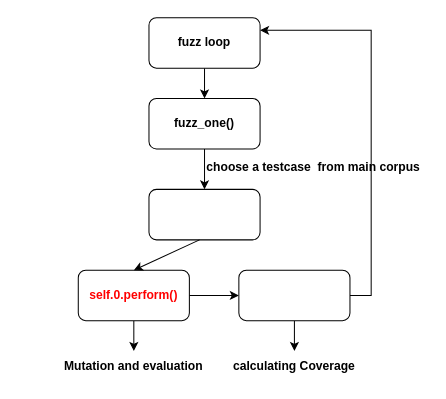
Some shapes in this 446 by 399 pixel diagram are drawn without their labels. The shapes that lost their labels are listed below. From the top down, each one's box as (x1, y1, x2, y2) in pixels, then its label:
(148, 188, 260, 240): perform_all()
(238, 269, 350, 321): self.1.perform()
